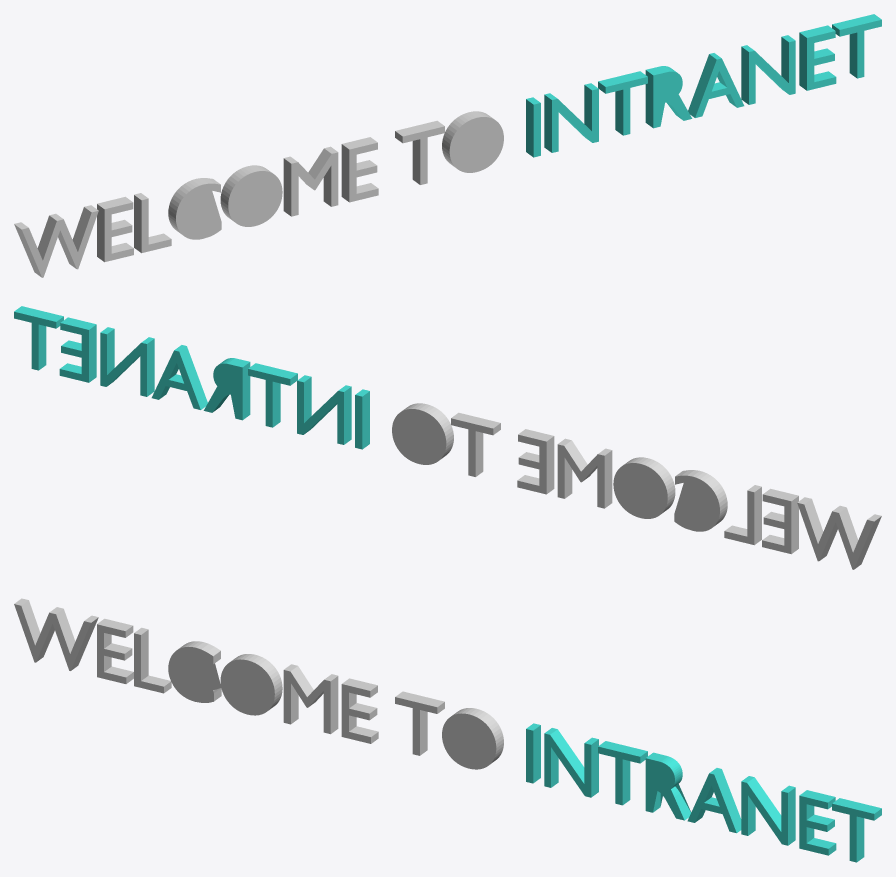
The model's file is WelcomeToIntarnet.fbx.
3 views of the same model, one above another, from view 1: azimuth 30°, elevation 25°; view 2: azimuth 150°, elevation 25°; view 3: azimuth 330°, elevation 25° (orthographic).
Parts seen in each view (by area): view 1: WELCIME TO, INTARNETY; view 2: WELCIME TO, INTARNETY; view 3: WELCIME TO, INTARNETY.
Part boxes in pixels (<box>): WELCIME TO: <box>14,111,503,277</box>; INTARNETY: <box>526,14,881,157</box>; WELCIME TO: <box>392,403,881,569</box>; INTARNETY: <box>14,306,369,449</box>; WELCIME TO: <box>14,598,503,769</box>; INTARNETY: <box>526,723,881,862</box>.
Size of the model in its own units: 1160 by 70 by 17.97.
